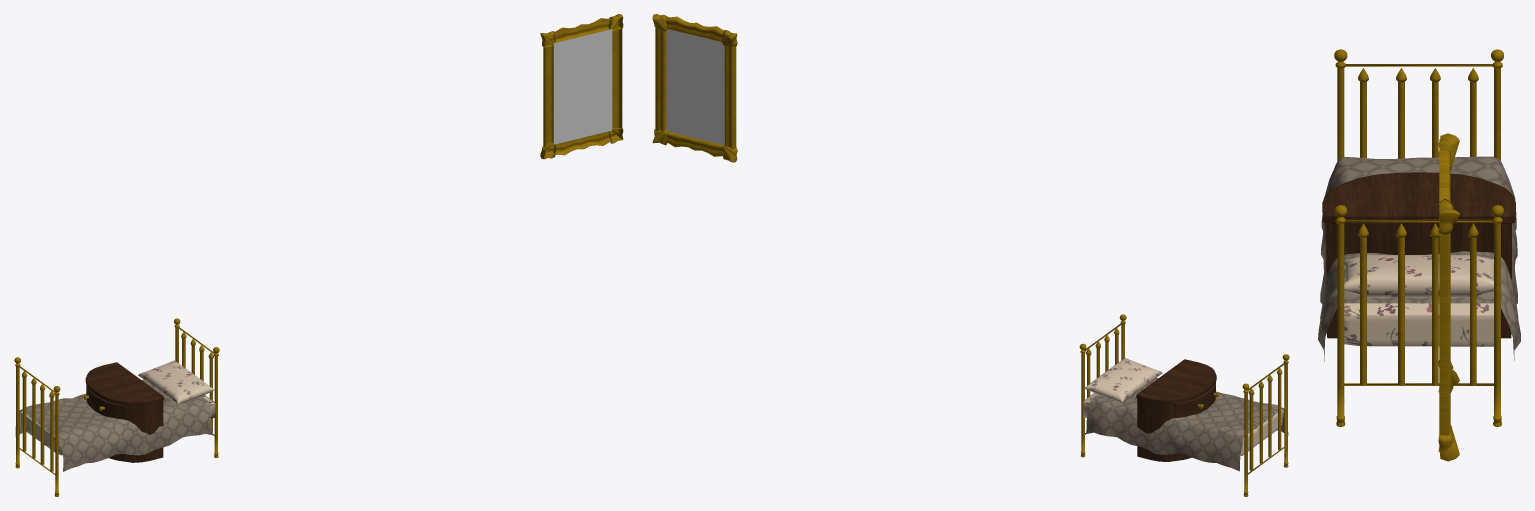
Rendered from singleBed,bedsideTables,pictureFrame.fbx.
3 views of the same model, side by side, from view 1: azimuth 30°, elevation 25°; view 2: azimuth 150°, elevation 25°; view 3: azimuth 270°, elevation 25° (orthographic). The views are drawn at different scales.
Parts seen in each view (by area): view 1: singleBed, portraitFrame, Bedside_table; view 2: singleBed, portraitFrame, Bedside_table; view 3: singleBed, Bedside_table, portraitFrame.
Boxes of the visible parts, bbox=[...] form: singleBed: bbox=[14, 318, 219, 496]; portraitFrame: bbox=[540, 14, 623, 159]; Bedside_table: bbox=[83, 362, 164, 462]; singleBed: bbox=[1079, 314, 1289, 496]; portraitFrame: bbox=[652, 14, 737, 162]; Bedside_table: bbox=[1136, 359, 1219, 461]; singleBed: bbox=[1318, 49, 1520, 426]; Bedside_table: bbox=[1322, 172, 1515, 338]; portraitFrame: bbox=[1438, 133, 1459, 461].
Size of the model in its own units: 773 by 396 by 114.
